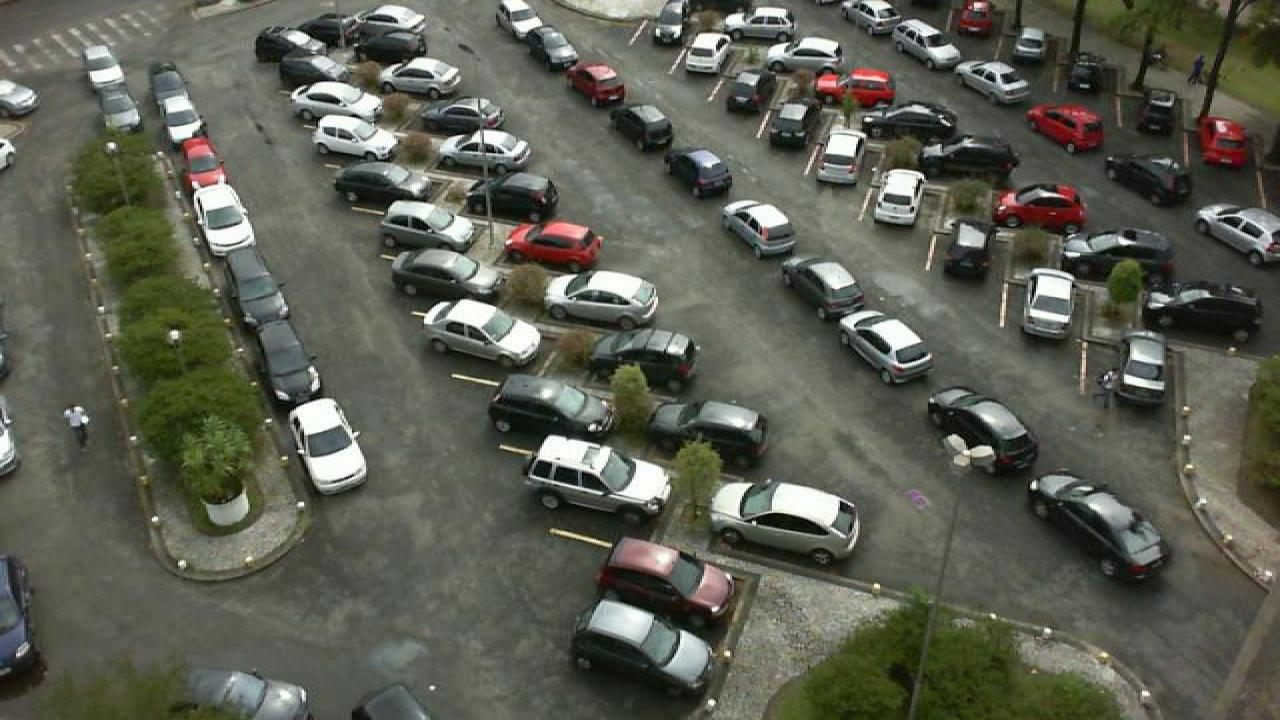Car: (1028, 472, 1176, 581), (568, 598, 712, 701), (598, 536, 742, 636), (708, 478, 862, 567), (526, 434, 672, 522), (926, 386, 1040, 476), (420, 298, 546, 367), (648, 399, 772, 466), (488, 374, 616, 438), (286, 396, 368, 495), (838, 310, 938, 386), (1144, 280, 1266, 342), (544, 268, 658, 330), (1062, 228, 1176, 290), (178, 667, 310, 720), (588, 328, 698, 390), (390, 248, 508, 302), (782, 256, 868, 320), (1194, 204, 1280, 266), (256, 320, 322, 400), (504, 221, 604, 272), (380, 199, 478, 251), (1102, 154, 1196, 207), (468, 172, 560, 223), (722, 199, 800, 259), (996, 184, 1088, 234), (1016, 268, 1078, 341), (438, 128, 532, 176), (330, 161, 426, 207), (920, 136, 1018, 180), (194, 184, 258, 251), (1116, 332, 1172, 407), (1024, 103, 1106, 153), (862, 104, 960, 145), (236, 282, 300, 344), (888, 18, 964, 68), (312, 114, 398, 158), (290, 81, 380, 123), (950, 60, 1034, 104), (666, 146, 734, 200), (220, 243, 280, 304), (414, 96, 504, 136), (378, 57, 464, 97), (942, 221, 1000, 280), (812, 128, 868, 184), (764, 37, 846, 75), (870, 169, 922, 228), (610, 104, 674, 150), (276, 55, 346, 97), (1196, 116, 1254, 166), (350, 28, 428, 63), (566, 62, 626, 107), (764, 101, 818, 150), (180, 135, 228, 186), (252, 25, 316, 63), (726, 68, 778, 114), (296, 12, 362, 48), (720, 6, 794, 37), (160, 96, 206, 145), (354, 4, 428, 33), (96, 84, 142, 130), (640, 1, 688, 45), (840, 0, 902, 34), (844, 67, 896, 107), (150, 63, 194, 110), (1138, 54, 1182, 101), (1064, 50, 1108, 96), (530, 28, 578, 70), (684, 31, 730, 74), (84, 44, 128, 88), (496, 0, 544, 38), (1012, 25, 1052, 64), (954, 0, 994, 35), (812, 68, 848, 106)
